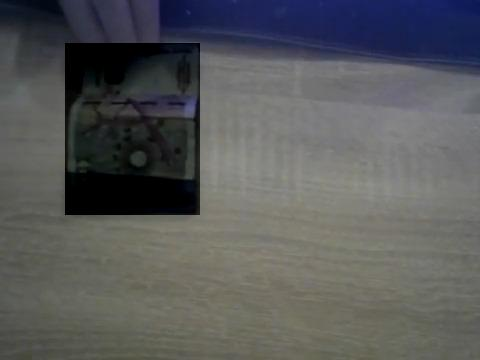10leva: (65, 43, 200, 215)
